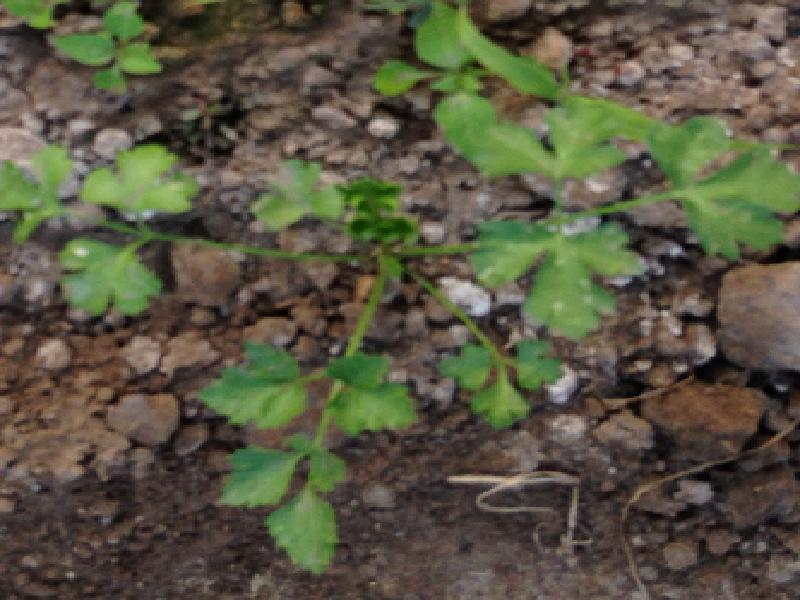radish: (132, 18, 758, 584)
